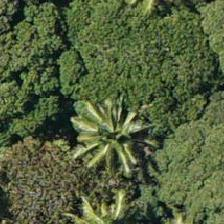coconut_tree: (66, 94, 156, 184), (59, 171, 149, 223)
